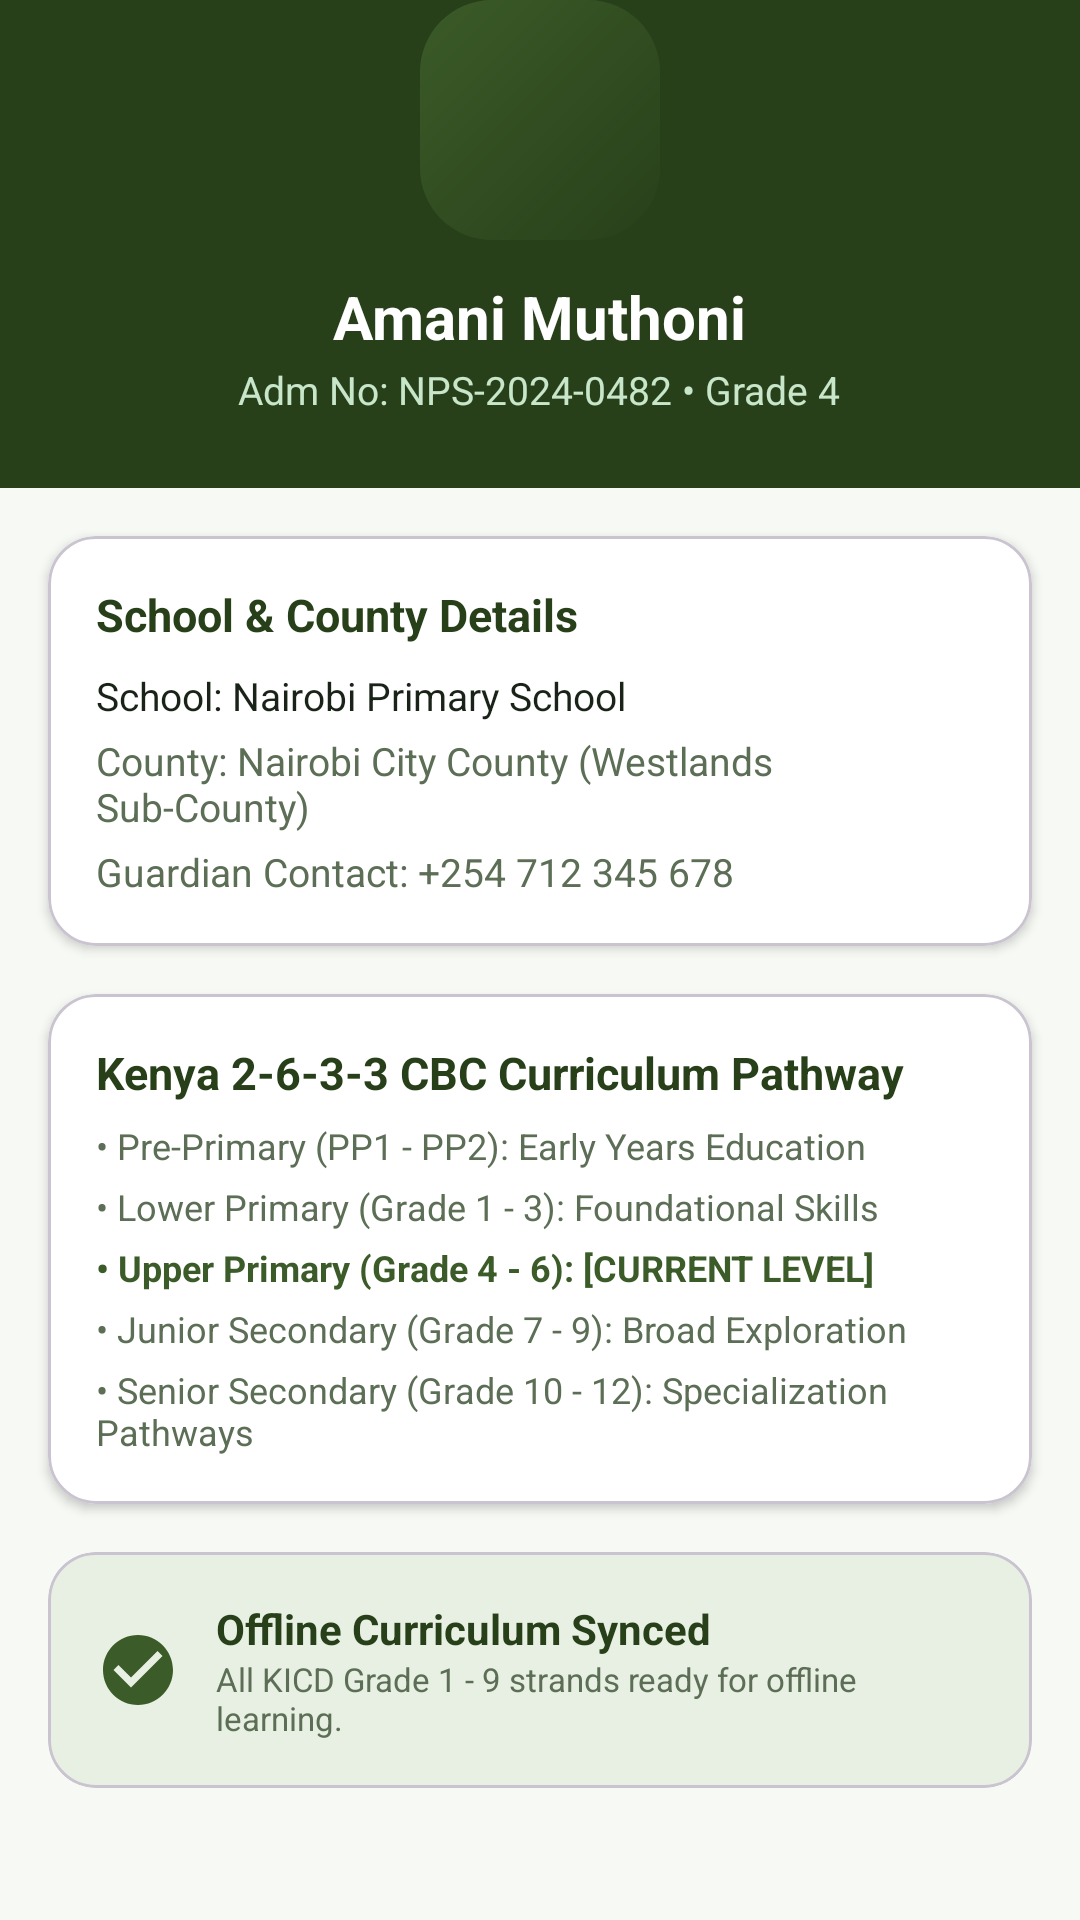

Screen size 1080px x 1920px. Icon name, then its center in pixels as [x,y]:
Check: [138,1670]
